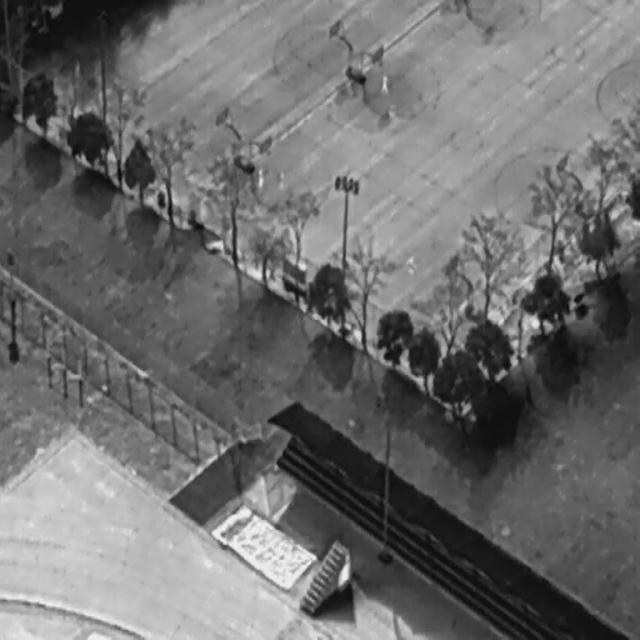Person: (378, 70, 386, 94), (404, 252, 413, 272), (256, 165, 263, 186), (277, 169, 284, 189)
